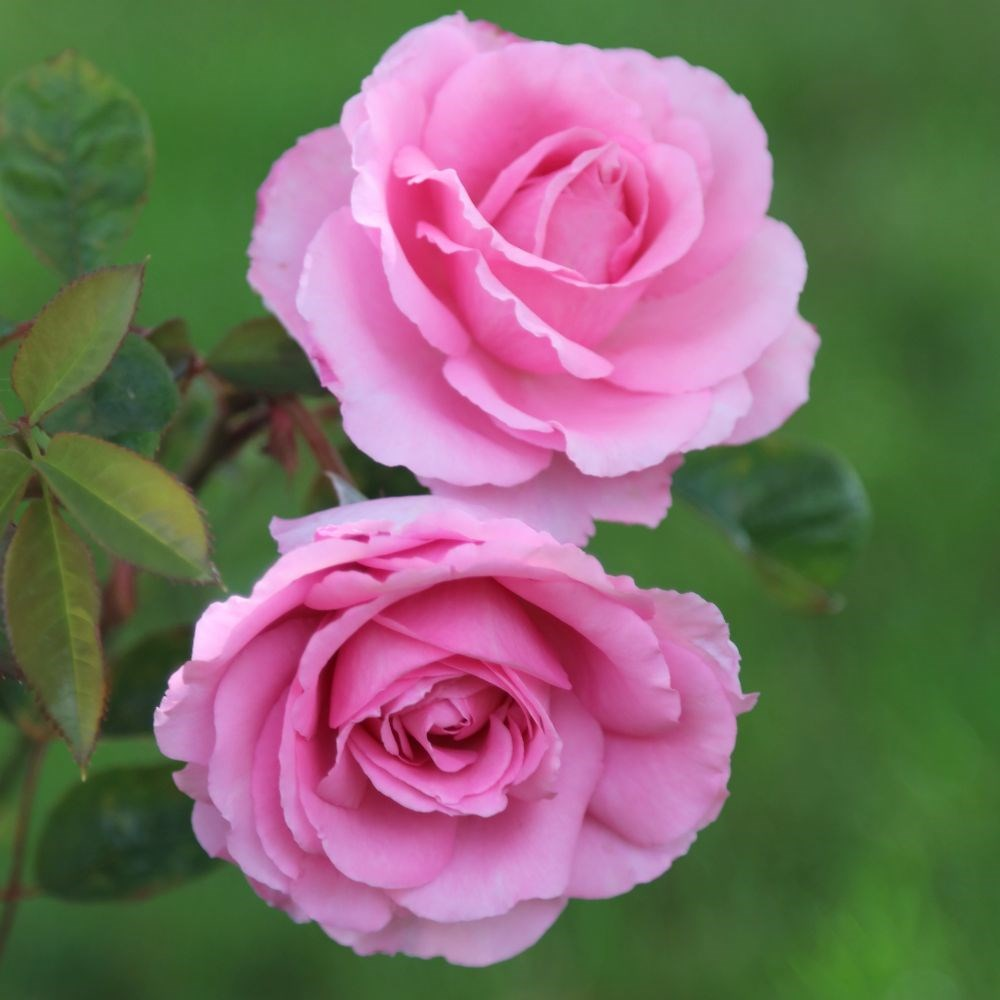rose: (295, 25, 806, 479), (214, 539, 687, 918)
